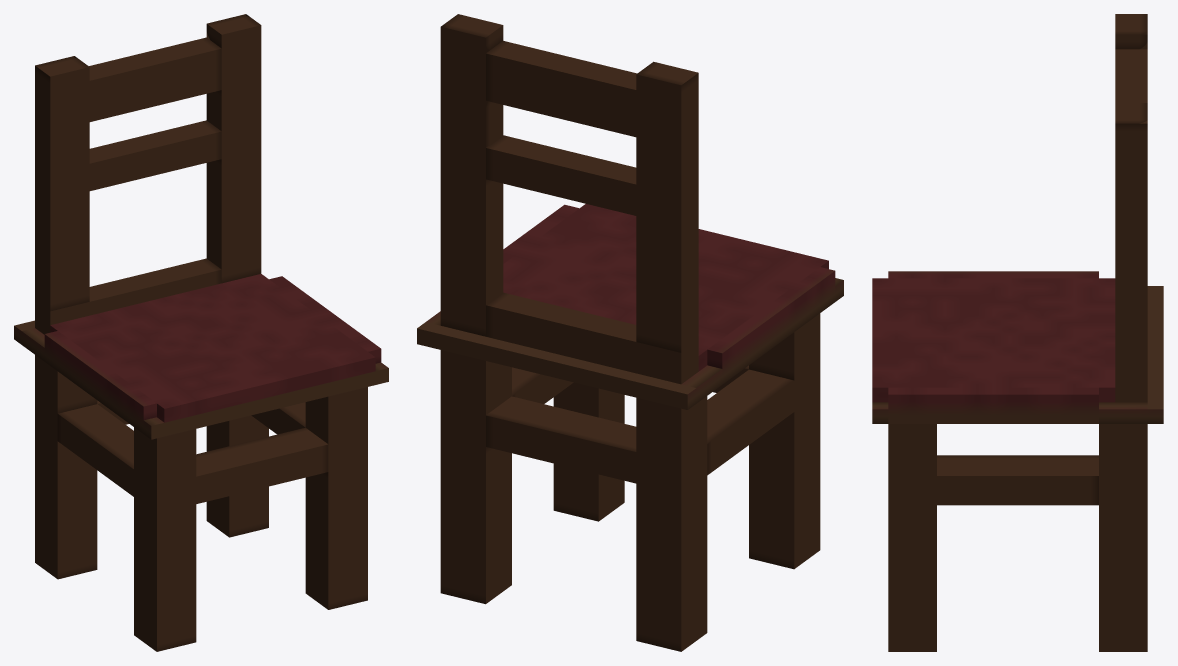
File: krzeslo.dae
3 views of the same model, side by side, from view 1: azimuth 30°, elevation 25°; view 2: azimuth 150°, elevation 25°; view 3: azimuth 270°, elevation 25° (orthographic). The views are drawn at different scales.
Parts seen in each view (by area): view 1: Content; view 2: Content; view 3: Content.
Part boxes in pixels (x1,y1,x2,y2): Content: (14, 14, 388, 651); Content: (417, 14, 843, 651); Content: (872, 14, 1163, 651).
Size of the model in its own units: 18 by 36 by 18.
1 material, 1 textured.
